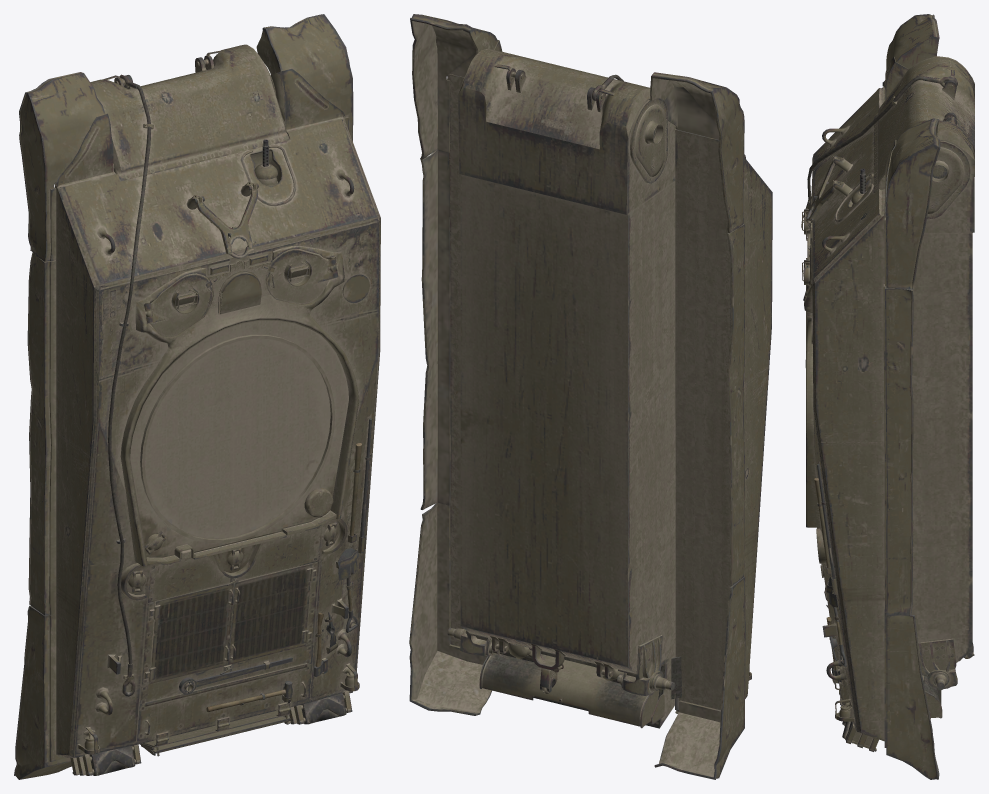
Rendered from Hull.glb.
3 views of the same model, side by side, from view 1: azimuth 30°, elevation 25°; view 2: azimuth 150°, elevation 25°; view 3: azimuth 270°, elevation 25° (orthographic). The views are drawn at different scales.
Parts seen in each view (by area): view 1: set_0_group_0; view 2: set_0_group_0; view 3: set_0_group_0.
Boxes of the visible parts, x1,y1,x2,y2 form: set_0_group_0: [14, 14, 380, 779]; set_0_group_0: [409, 14, 772, 779]; set_0_group_0: [801, 14, 974, 779].
Bounding box in the file's own units: 2.98 × 6.3 × 1.55.
Materials: 1 (1 with a texture image).
